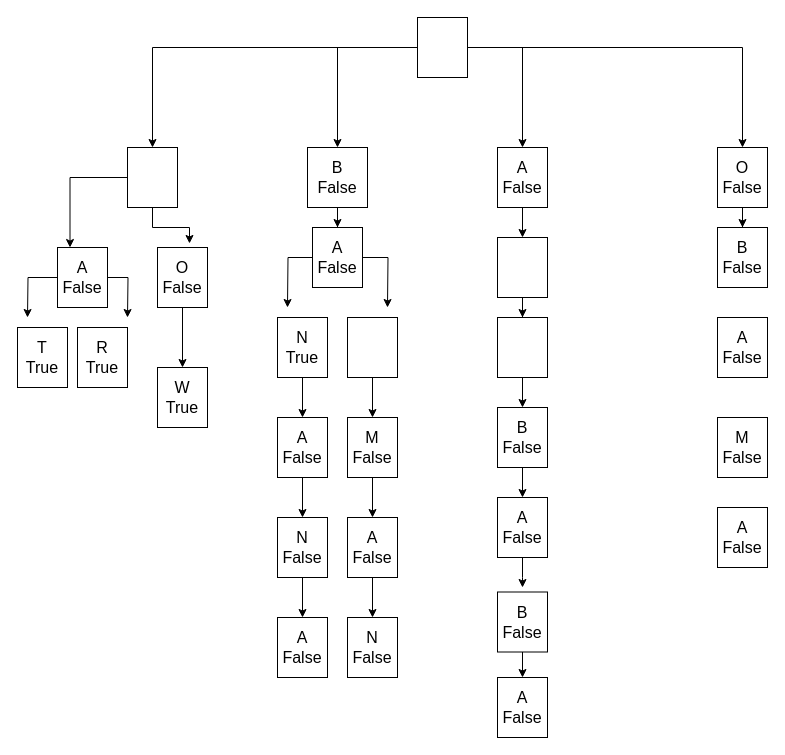
This 785x755 diagram has some shape labels left out. The centre of each missing label's shape, as x and y in pixels:
"C False" goes at point 152,177.
"I False" goes at point 522,347.
"L False" goes at point 522,267.
"Root" goes at point 442,47.
"T False" goes at point 372,347.
